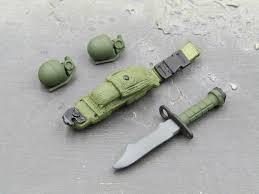Grenade: (37, 56, 76, 93), (87, 34, 126, 65)
Knife: (116, 103, 226, 172)
